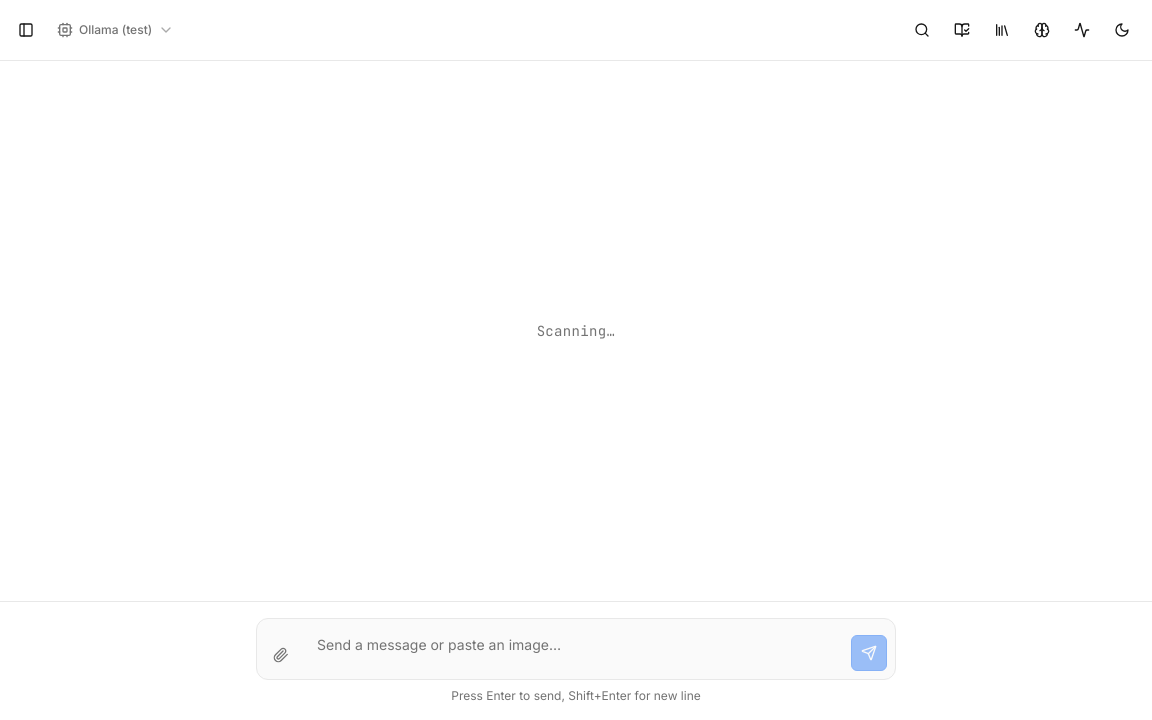
Test case: Chat component — message streams to the UI when a connection is active › renders the assistant reply in the message list after the stream ends
Type and send a message.
Type "ping" into the text box with test id "input-chat-message".
click(574, 649); type("ping")  # box [305, 627, 843, 671]
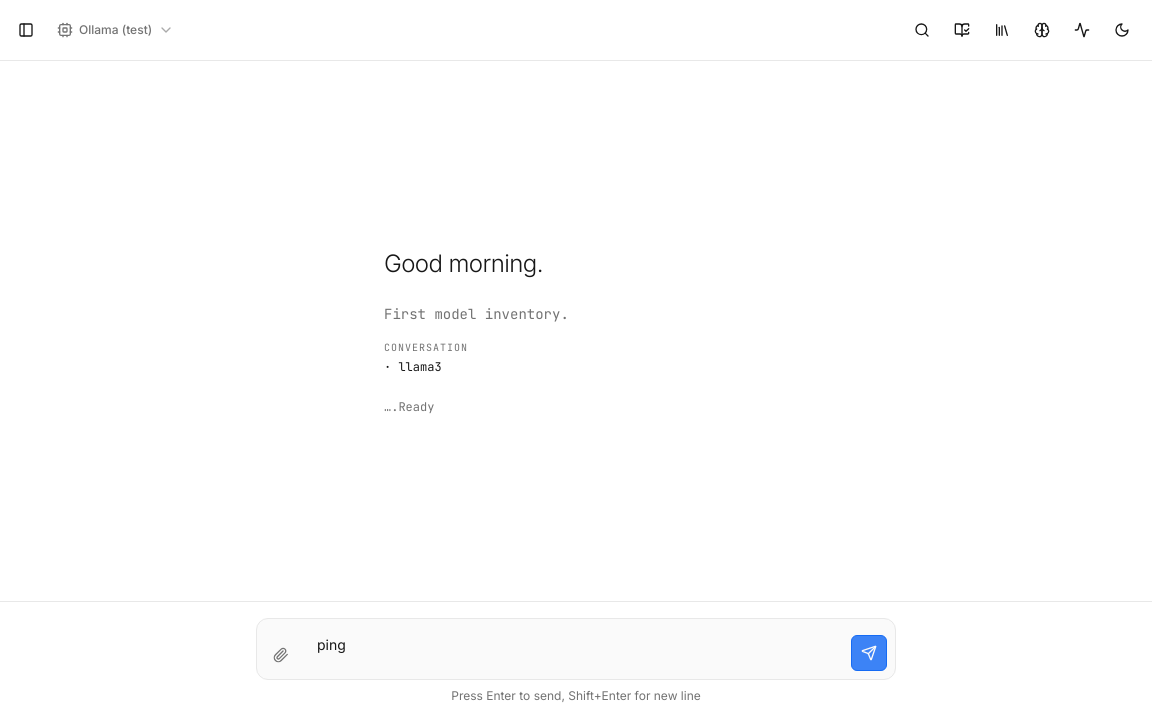
Click the button with test id "button-send-message".
click(869, 653)  # box [851, 635, 887, 671]
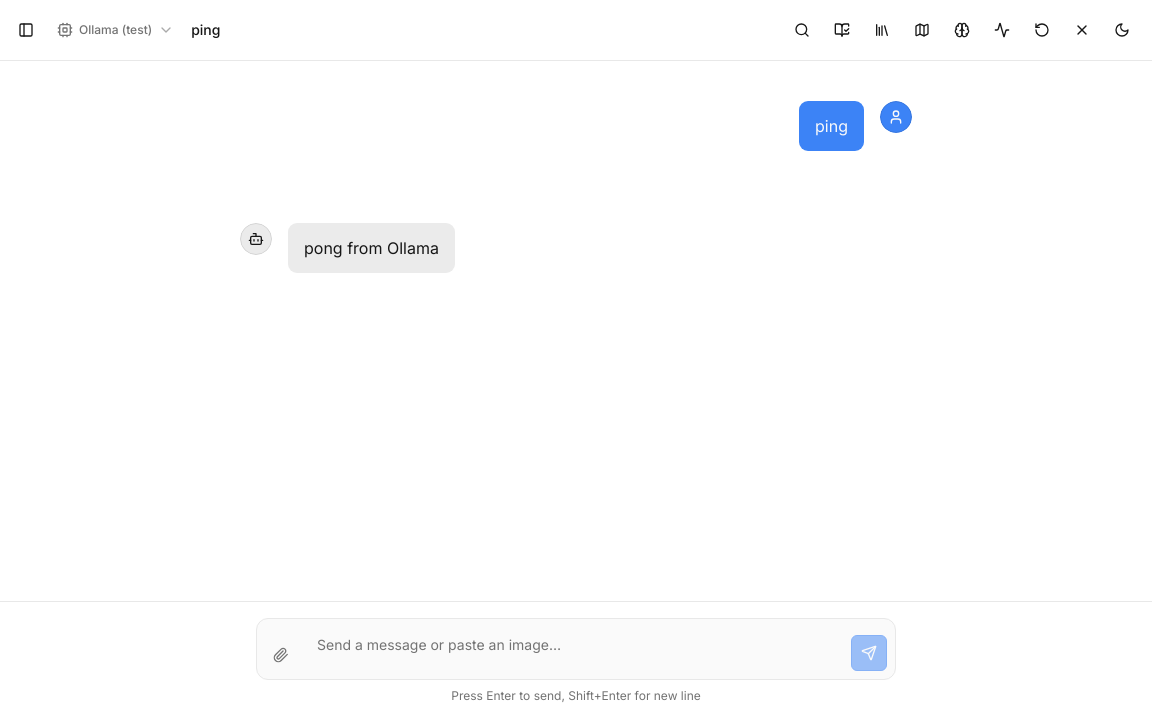
expect the text "pong from Ollama" is shown: met, box [304, 235, 439, 261]
